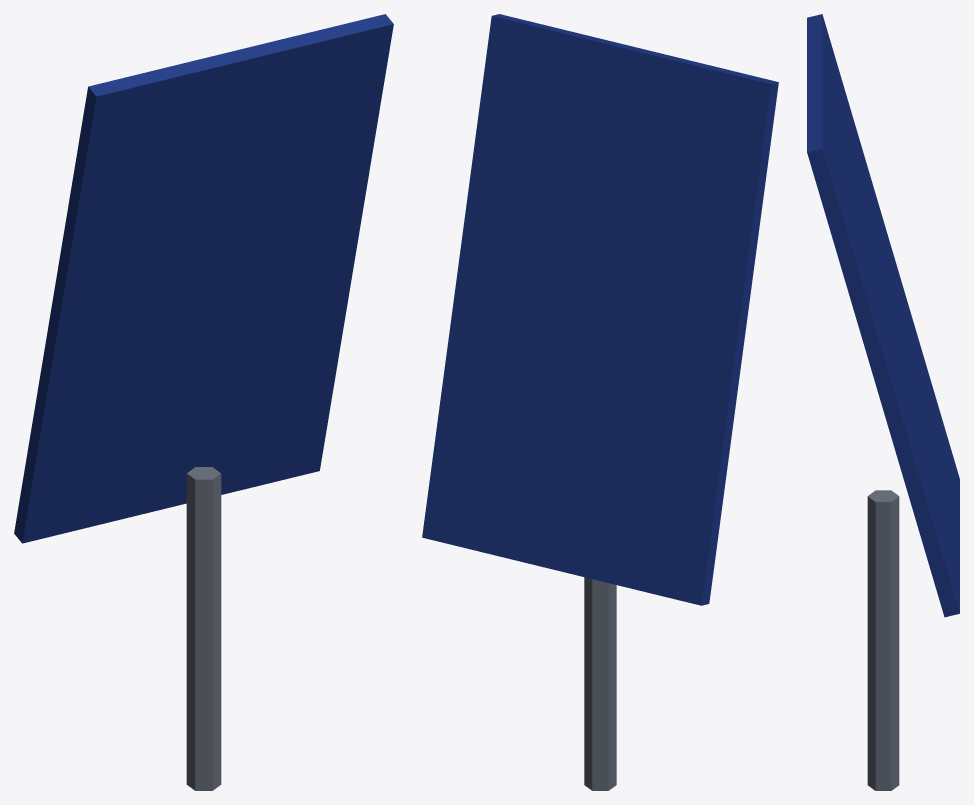
Rendered from solar_panel.glb.
The picture shows the model from 3 angles, left to right: view 1: azimuth 30°, elevation 25°; view 2: azimuth 150°, elevation 25°; view 3: azimuth 270°, elevation 25°; orthographic projection. The views are drawn at different scales.
Parts seen in each view (by area): view 1: panel, pole; view 2: panel, pole; view 3: panel, pole.
Part boxes in pixels (<box>): panel: <box>14,14,393,543</box>; pole: <box>186,467,221,790</box>; panel: <box>422,14,778,605</box>; pole: <box>584,577,616,790</box>; panel: <box>807,14,959,617</box>; pole: <box>867,490,899,790</box>.
Bounding box in the file's own units: 1.2 × 2.92 × 0.5756.
